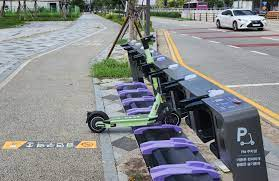kick_wheel: (86, 111, 108, 134)
